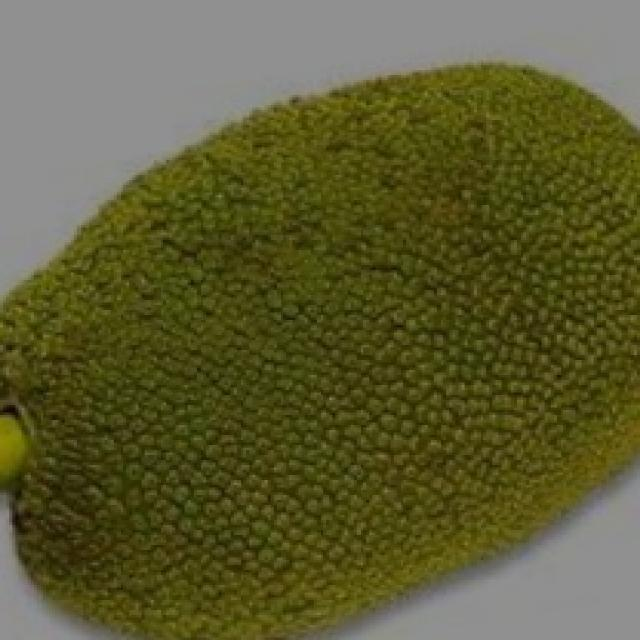Fruit: (277, 245, 640, 637), (0, 287, 375, 640), (234, 40, 640, 328)
